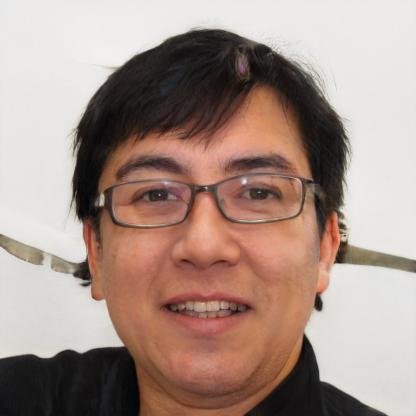glasses: (99, 169, 319, 230)
